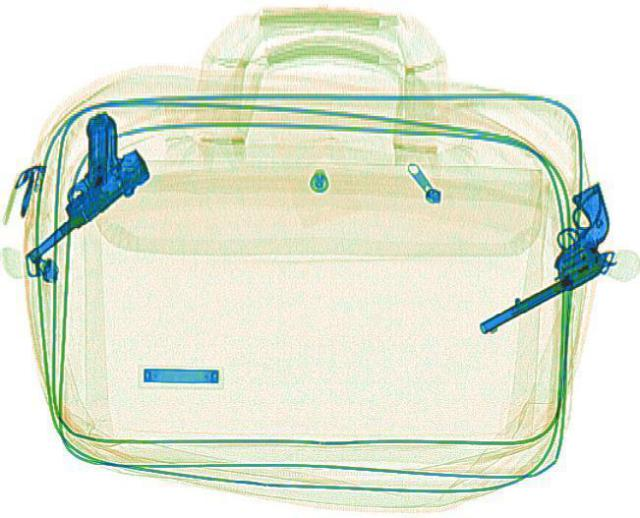Gun: (430, 194, 638, 332), (0, 108, 172, 235)
